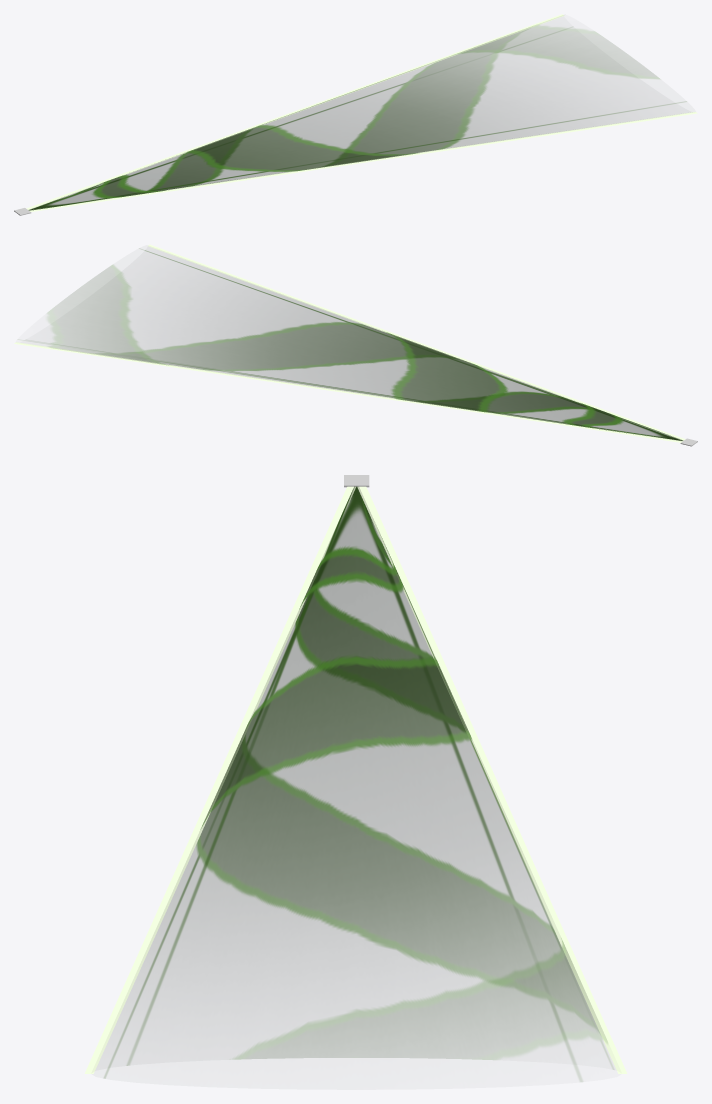
File: laser_cone.glb
The picture shows the model from 3 angles, top to bottom: view 1: azimuth 30°, elevation 25°; view 2: azimuth 150°, elevation 25°; view 3: azimuth 270°, elevation 25°; orthographic projection. The views are drawn at different scales.
Visible parts, largest first — view 1: Cone, Plane.001, Plane.002; view 2: Cone, Plane.002, Plane.001; view 3: Cone, Plane.002, Plane.001.
Part boxes in pixels (bbox=[...]): Cone: bbox=[28, 25, 686, 210]; Plane.001: bbox=[29, 112, 697, 211]; Plane.002: bbox=[26, 14, 564, 209]; Cone: bbox=[28, 248, 683, 440]; Plane.002: bbox=[14, 342, 682, 442]; Plane.001: bbox=[148, 244, 685, 440]; Cone: bbox=[104, 486, 613, 1081]; Plane.002: bbox=[357, 486, 627, 1073]; Plane.001: bbox=[84, 486, 355, 1073].
Bounding box in the file's own units: 16.67 × 0.4173 × 6.39.
Materials: 2 (1 with a texture image).
